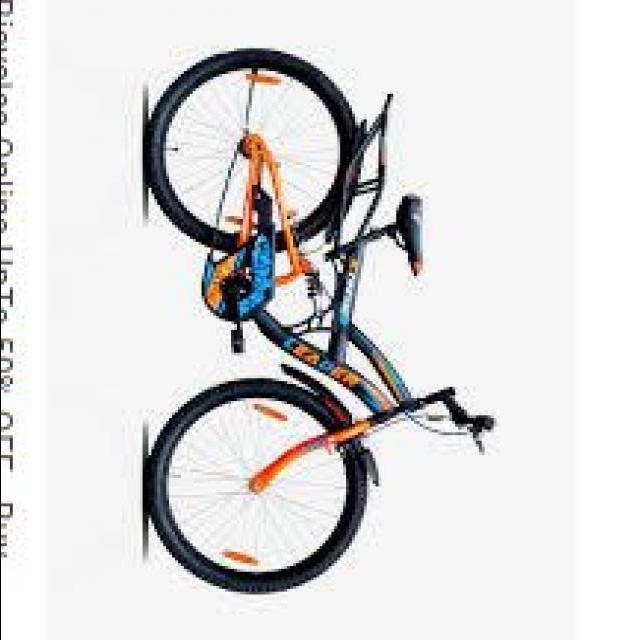bicycle: (157, 69, 505, 589)
